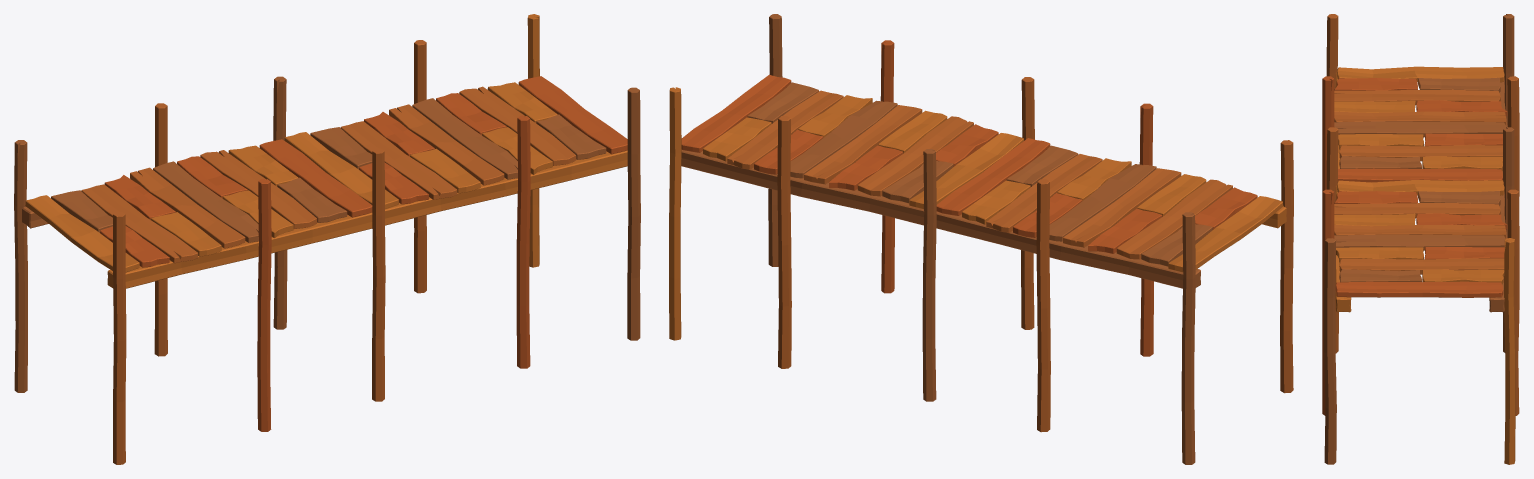
The model's file is PUENTE_CARO.glb.
3 views of the same model, side by side, from view 1: azimuth 30°, elevation 25°; view 2: azimuth 150°, elevation 25°; view 3: azimuth 270°, elevation 25° (orthographic). The views are drawn at different scales.
Parts seen in each view (by area): view 1: Cube.001; view 2: Cube.001; view 3: Cube.001.
Boxes of the visible parts, left/top/right/bottom form: Cube.001: left=14, top=14, right=640, bottom=464; Cube.001: left=669, top=14, right=1293, bottom=464; Cube.001: left=1322, top=14, right=1519, bottom=464.
Size of what is drawn, in the model's own units: 7.2 by 3.26 by 2.62.
